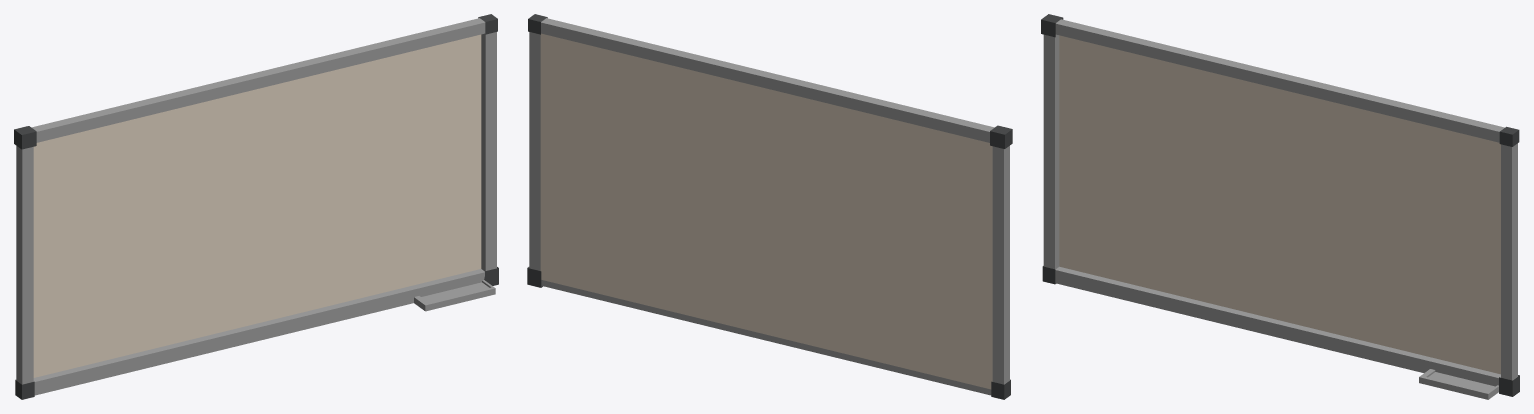
Rendered from доска.fbx.
The picture shows the model from 3 angles, left to right: view 1: azimuth 30°, elevation 25°; view 2: azimuth 150°, elevation 25°; view 3: azimuth 330°, elevation 25°; orthographic projection.
Visible parts, largest first — view 1: Куб; view 2: Куб; view 3: Куб.
Part boxes in pixels (x1,y1,x2,y2): Куб: (14,14,498,399); Куб: (527,14,1012,399); Куб: (1041,14,1519,399).
Size of the model in its own units: 380 by 202 by 24.89.
